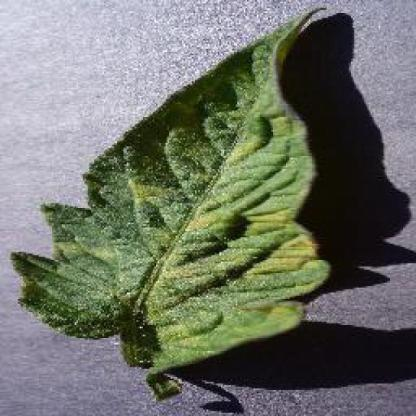Tomato_Leaf_Mold: (10, 7, 331, 369)
